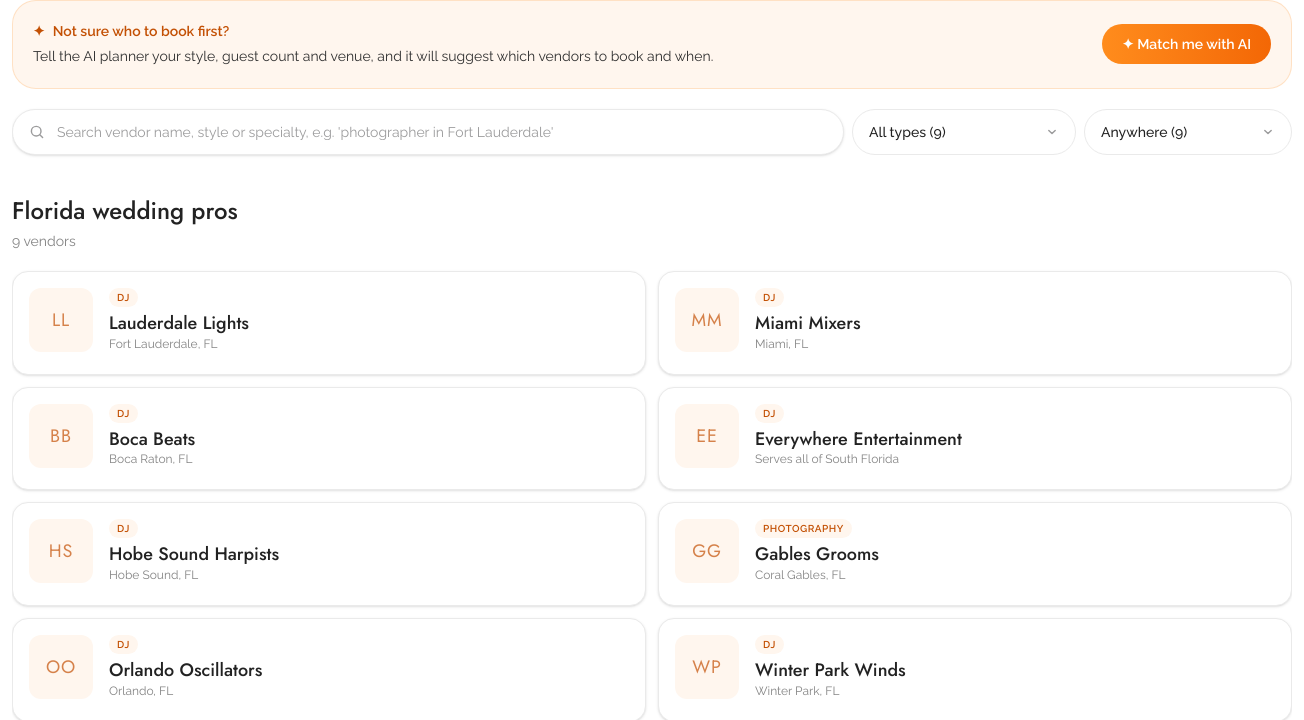
Test: VendorDirectoryList metro and area filters › keeps a region-wide vendor visible inside its own metro
Select "South Florida (6)" in the dropdown named "Metro" at (1188, 132), box [1084,109,1292,155]
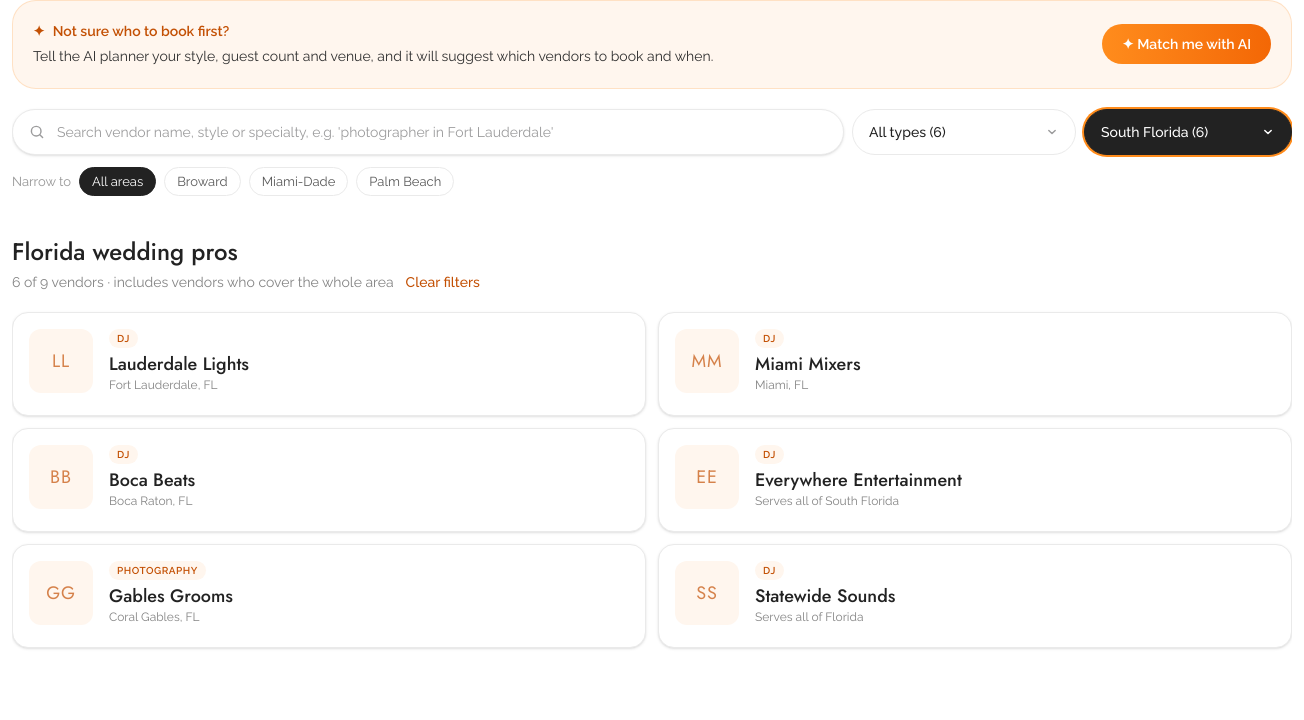
Expected: the heading "Everywhere Entertainment" is shown, [755,467,962,493]
Now the link "Orlando Oscillators" no longer shows "Orlando Oscillators"
